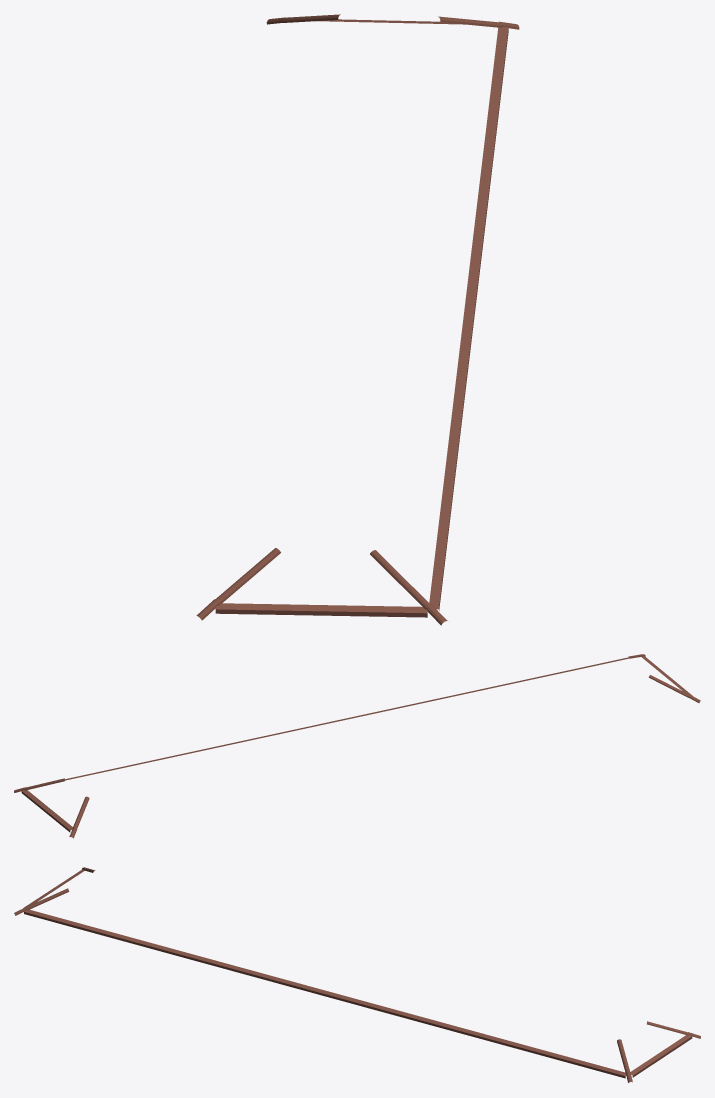
The picture shows the model from 3 angles, top to bottom: view 1: azimuth 30°, elevation 25°; view 2: azimuth 150°, elevation 25°; view 3: azimuth 270°, elevation 25°; orthographic projection. The views are drawn at different scales.
Visible parts, largest first — view 1: detail; view 2: detail; view 3: detail.
Boxes of the visible parts, x1=… form: detail: x1=196, y1=14, x2=519, y2=625; detail: x1=14, y1=654, x2=700, y2=838; detail: x1=14, y1=867, x2=700, y2=1082.
Size of the model in its own units: 30.87 by 1.45 by 41.75.
